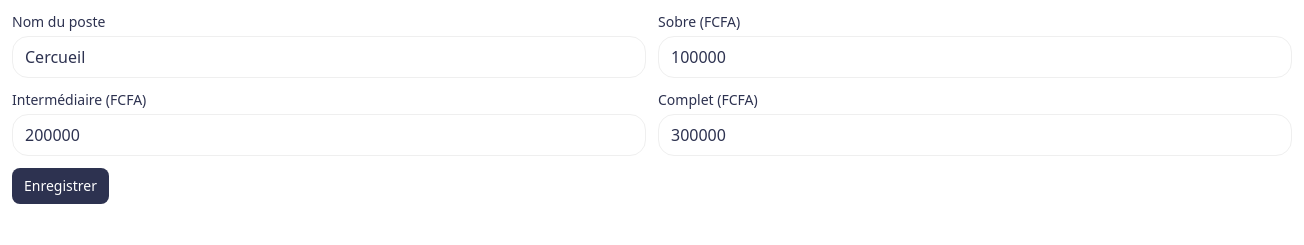
Scenario: LineForm › shows a translated field error, focuses it and keeps the input
The width and height of the screenshot is (1304, 245).
Replace the text in the field labelled "Intermédiaire (FCFA)" with "abc". click: (329, 135)
box: [12, 114, 646, 156]
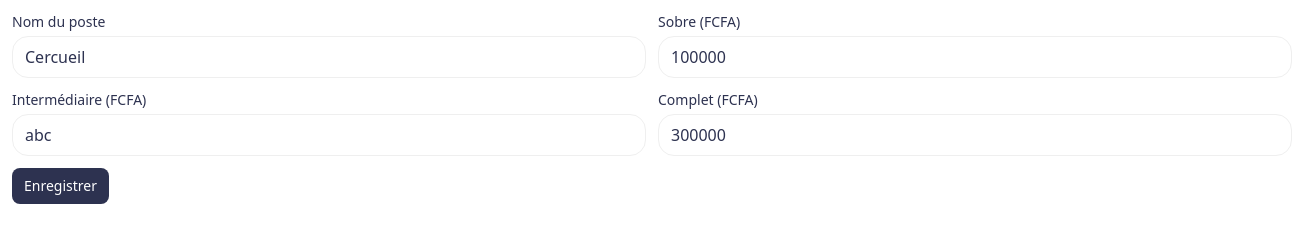
Click the button "Enregistrer". click: (60, 186)
box: [12, 168, 109, 204]
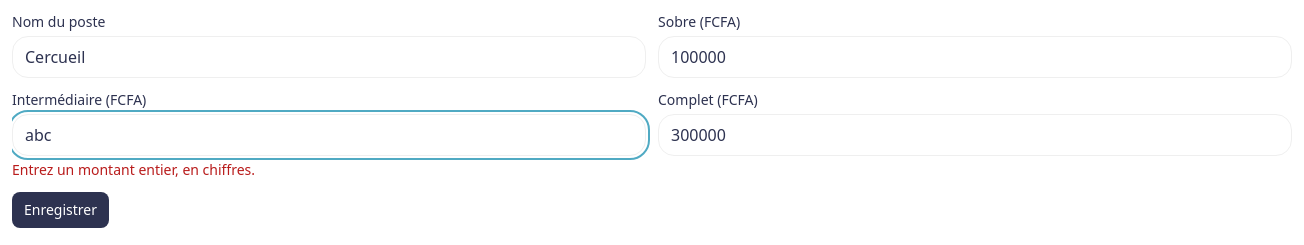
Result: the message reads "Entrez un montant entier, en chiffres." at [12, 160, 255, 179]
Result: the number of messages is 1 at [12, 160, 255, 179]
